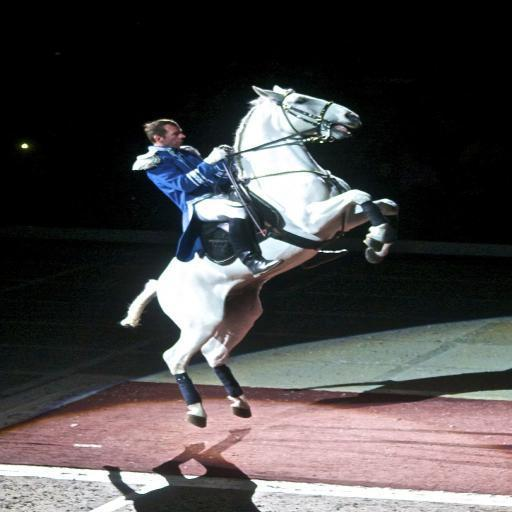horse: (116, 83, 402, 428)
